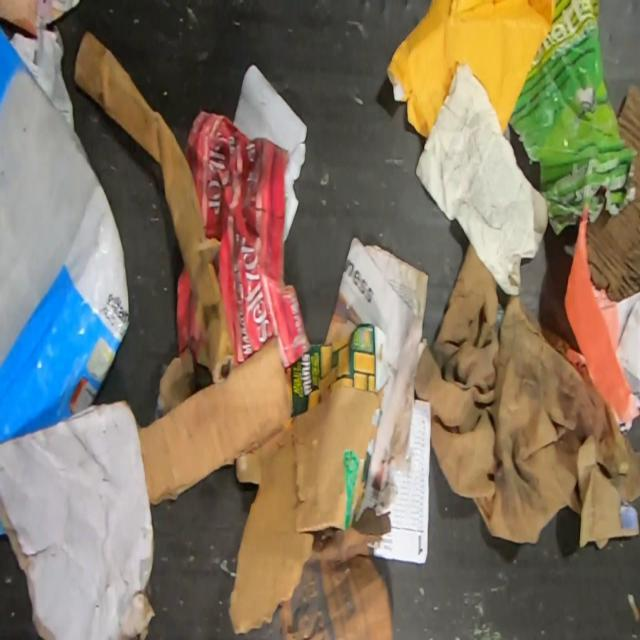cardboard: (74, 30, 383, 635), (0, 400, 157, 640), (564, 217, 640, 430), (588, 80, 640, 305), (176, 264, 210, 372), (0, 0, 80, 38)
soft_plastic: (0, 30, 128, 441)
